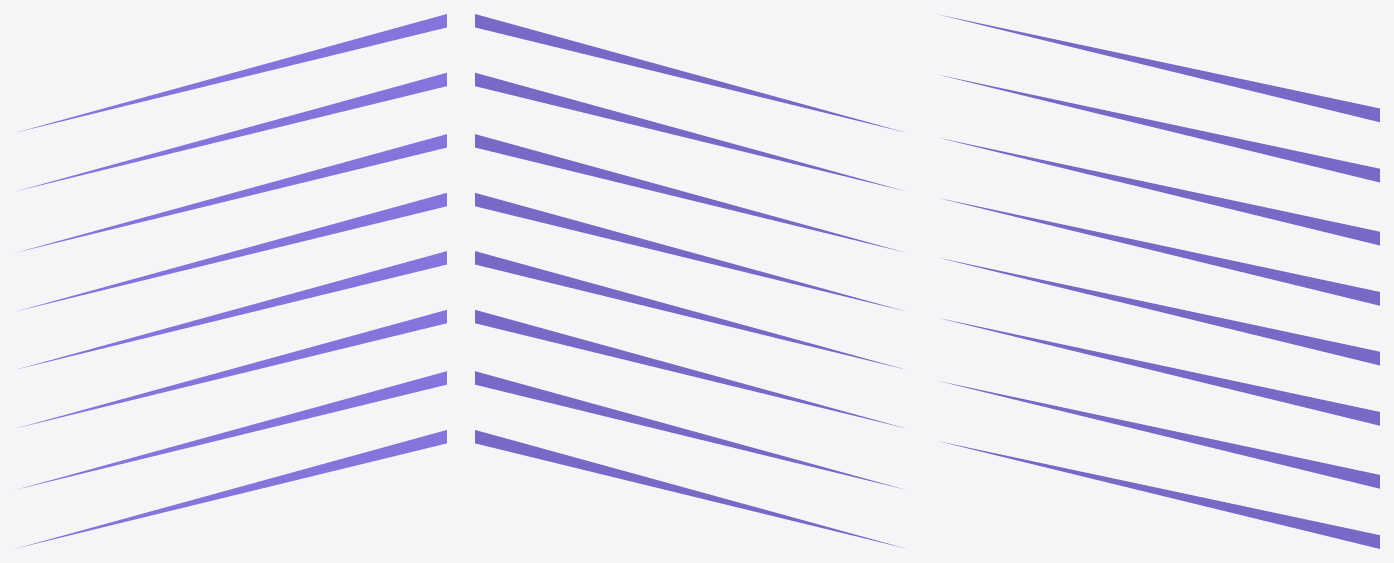
Rendered from beams.glb.
3 views of the same model, side by side, from view 1: azimuth 30°, elevation 25°; view 2: azimuth 150°, elevation 25°; view 3: azimuth 330°, elevation 25° (orthographic). The views are drawn at different scales.
Visible parts, largest first — view 1: beams; view 2: beams; view 3: beams.
Boxes of the visible parts, <box> form: beams: <box>18,14,446,547</box>; beams: <box>475,14,903,547</box>; beams: <box>939,14,1379,548</box>.
Bounding box in the file's own units: 518 × 492 × 0.
